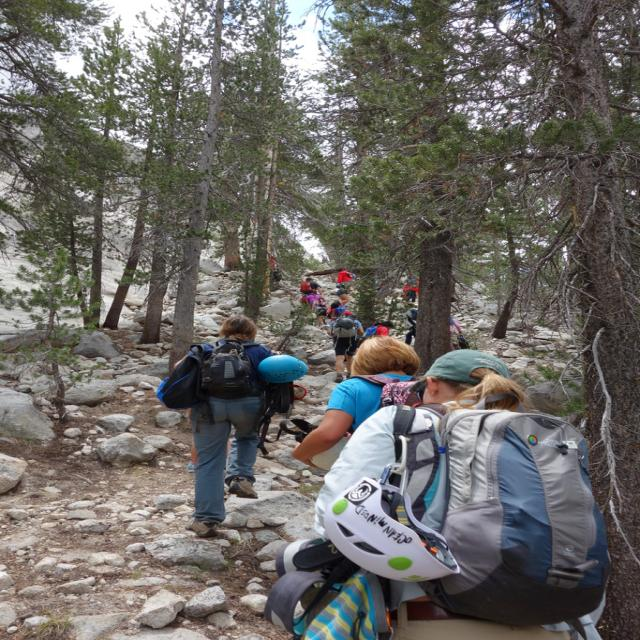backpack: (385, 407, 611, 622), (197, 341, 260, 391)
